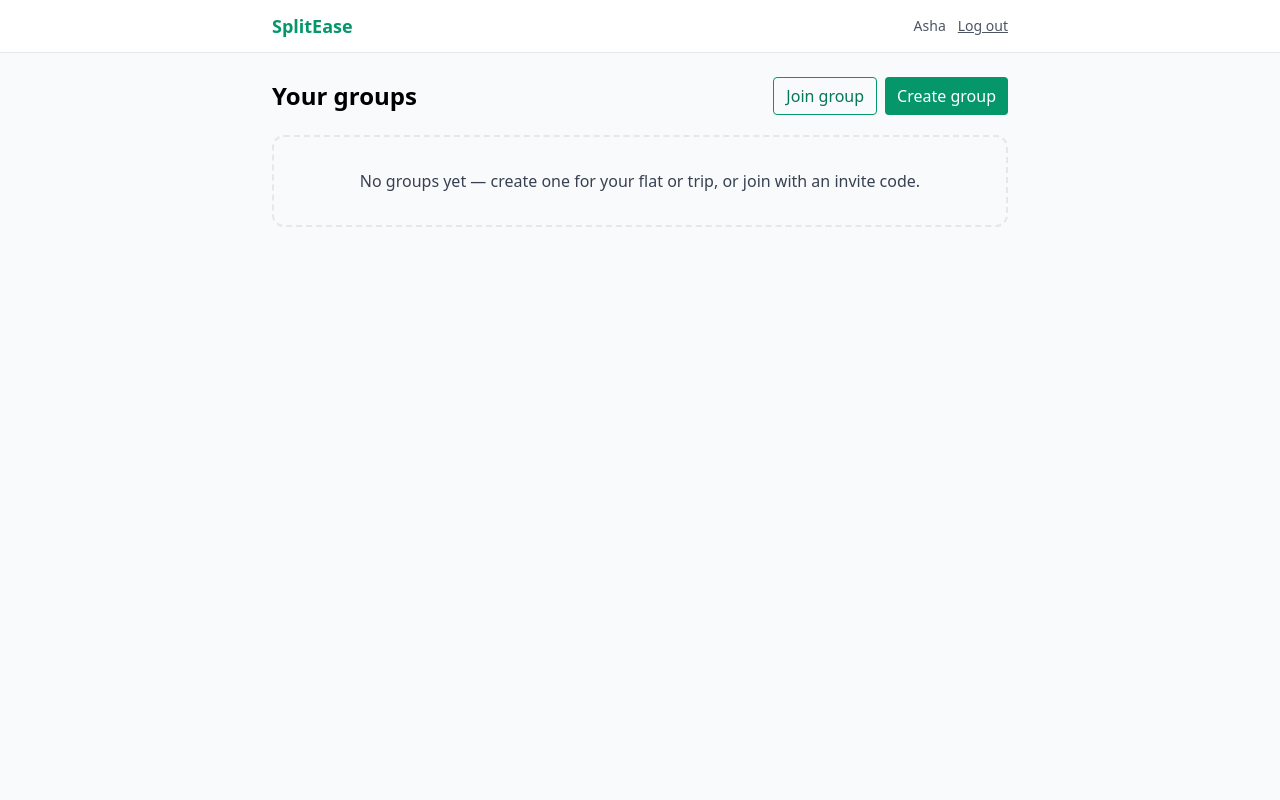
Test: dashboard › creates a group and opens it
This screenshot has width=1280, height=800.
Step 1. Click the button "Create group" → (947, 96), box [885,77,1008,115]
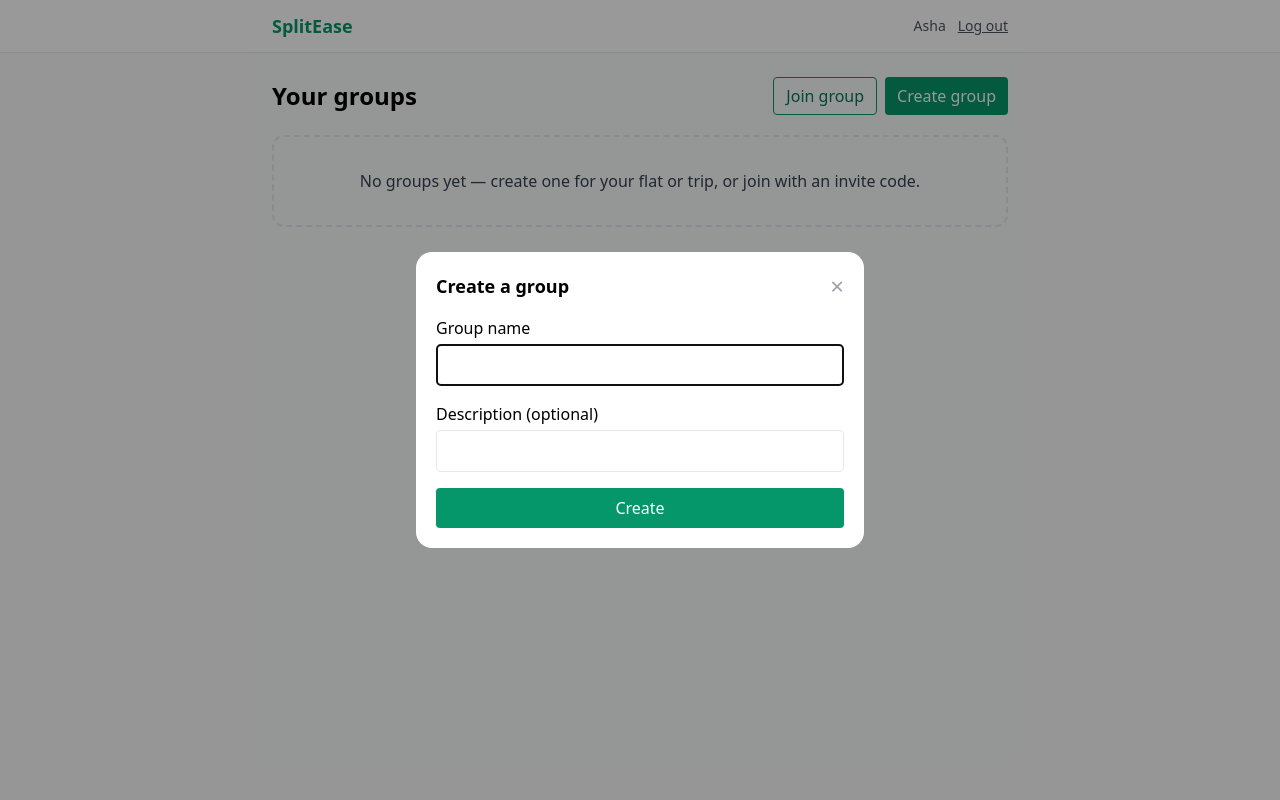
Step 2. Type "Hostel" into the field labelled "Group name" → (640, 365), box [436,344,844,386]
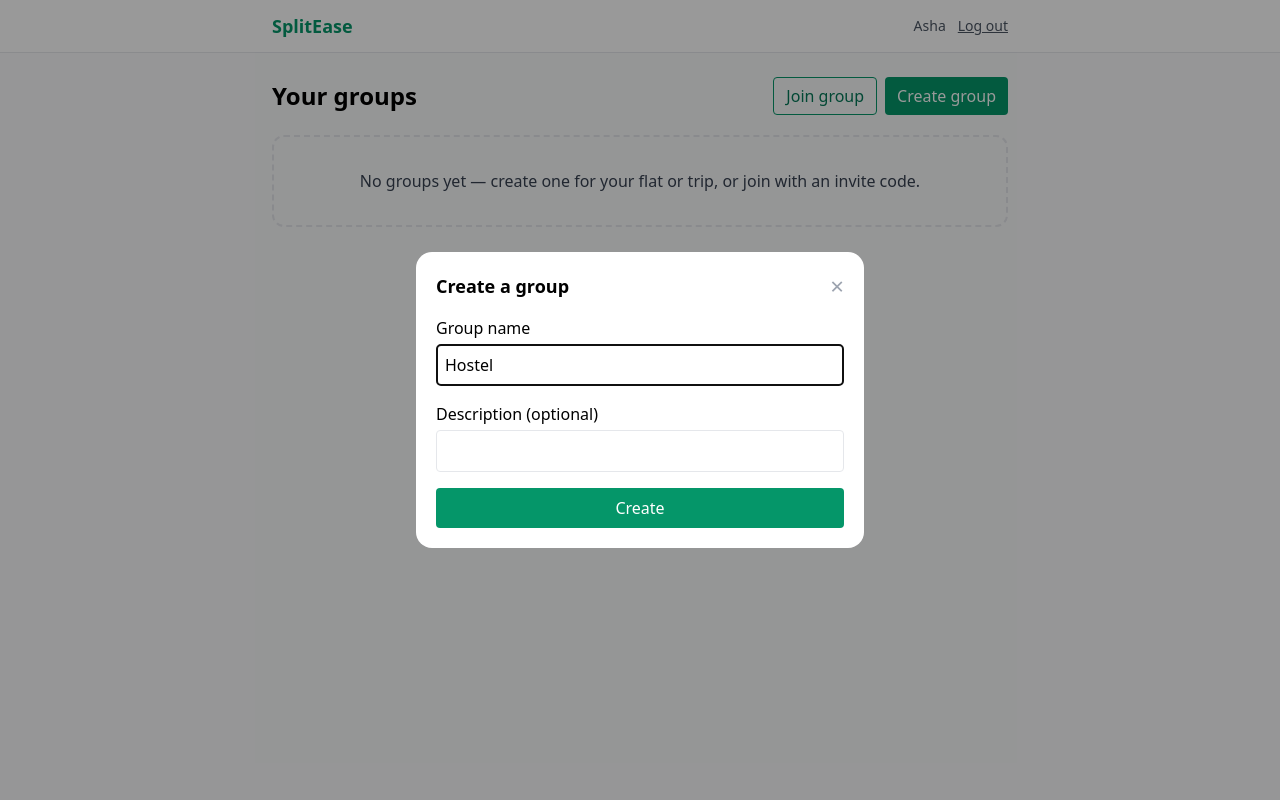
Step 3. Click the button "Create" → (640, 508), box [436,488,844,528]
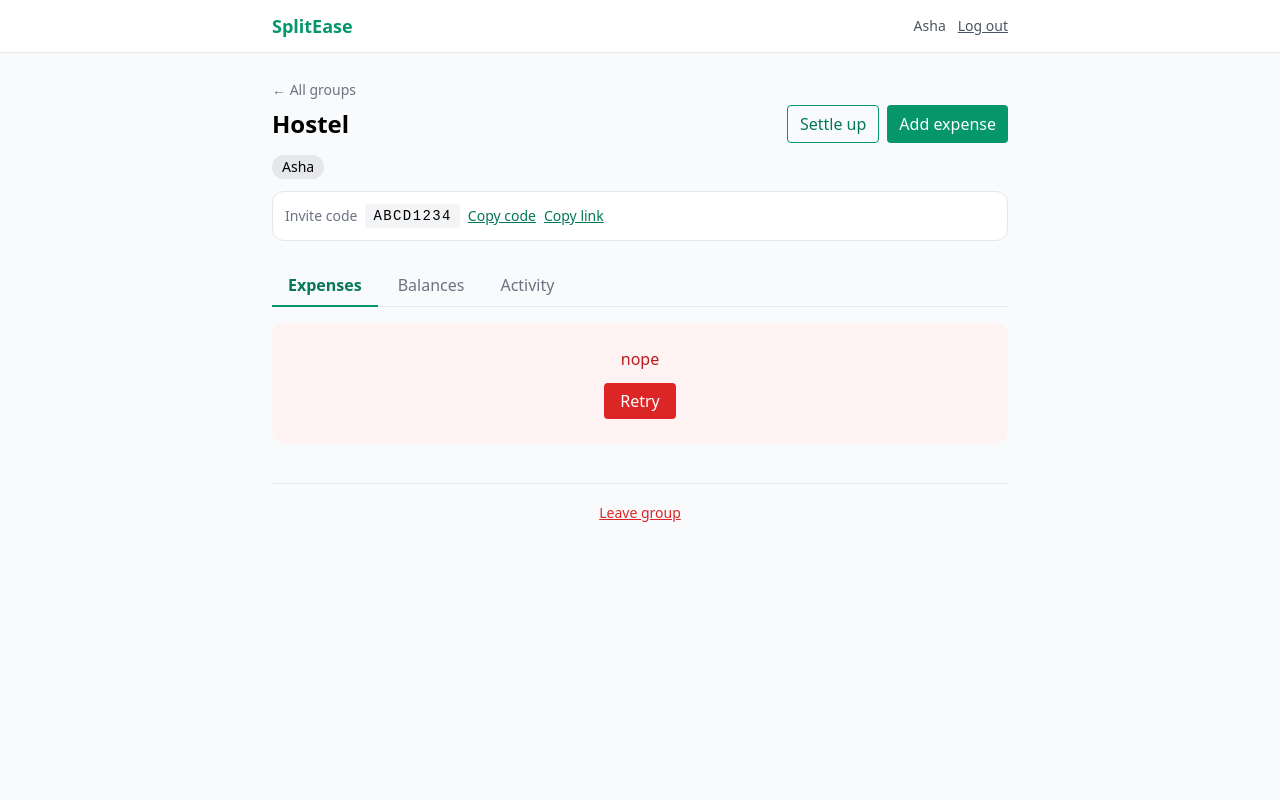
Expected: the heading "Hostel" is shown, [272,108,349,140]
